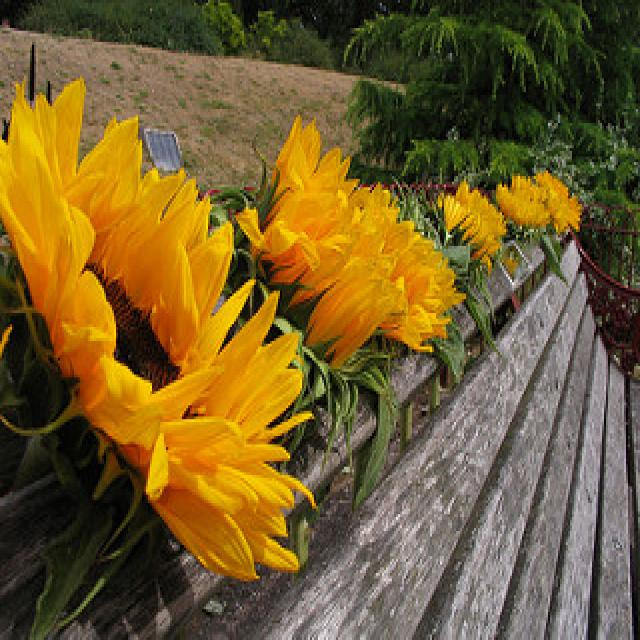sunflower: (1, 91, 307, 583), (252, 182, 384, 374), (426, 190, 504, 274), (492, 186, 548, 236)
